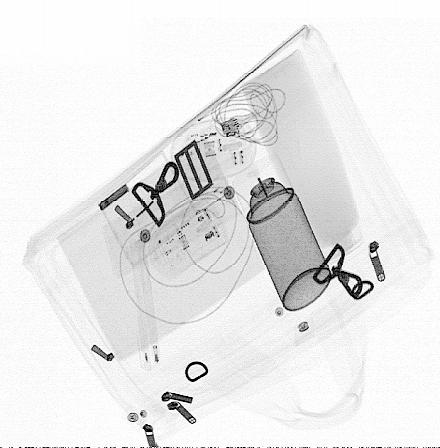Sprayer: (229, 151, 334, 311)
